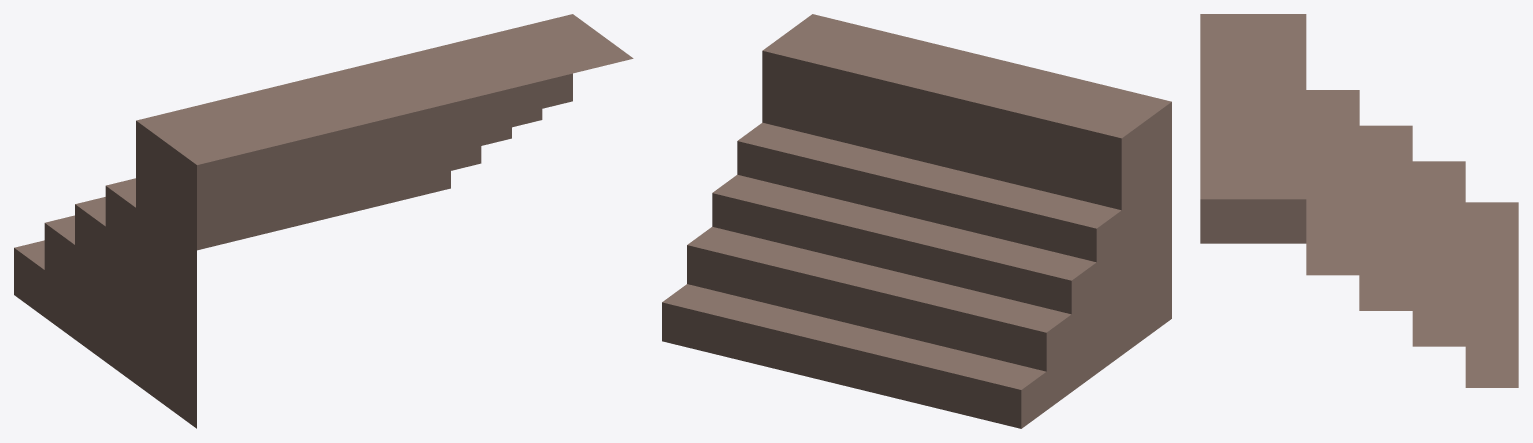
File: bg_seats_01.fbx
3 views of the same model, side by side, from view 1: azimuth 30°, elevation 25°; view 2: azimuth 150°, elevation 25°; view 3: azimuth 270°, elevation 25° (orthographic). The views are drawn at different scales.
Visible parts, largest first — view 1: bg_seats_01; view 2: bg_seats_01; view 3: bg_seats_01.
Part boxes in pixels (left/top/right/bottom): bg_seats_01: left=14, top=14, right=633, bottom=428; bg_seats_01: left=662, top=14, right=1171, bottom=428; bg_seats_01: left=1200, top=14, right=1518, bottom=387.
Bounding box in the file's own units: 1191 × 687 × 864.
